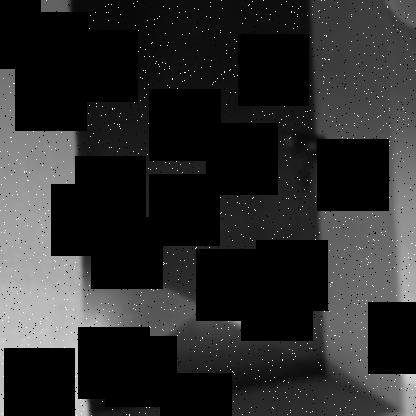Porte: (70, 1, 332, 415)
